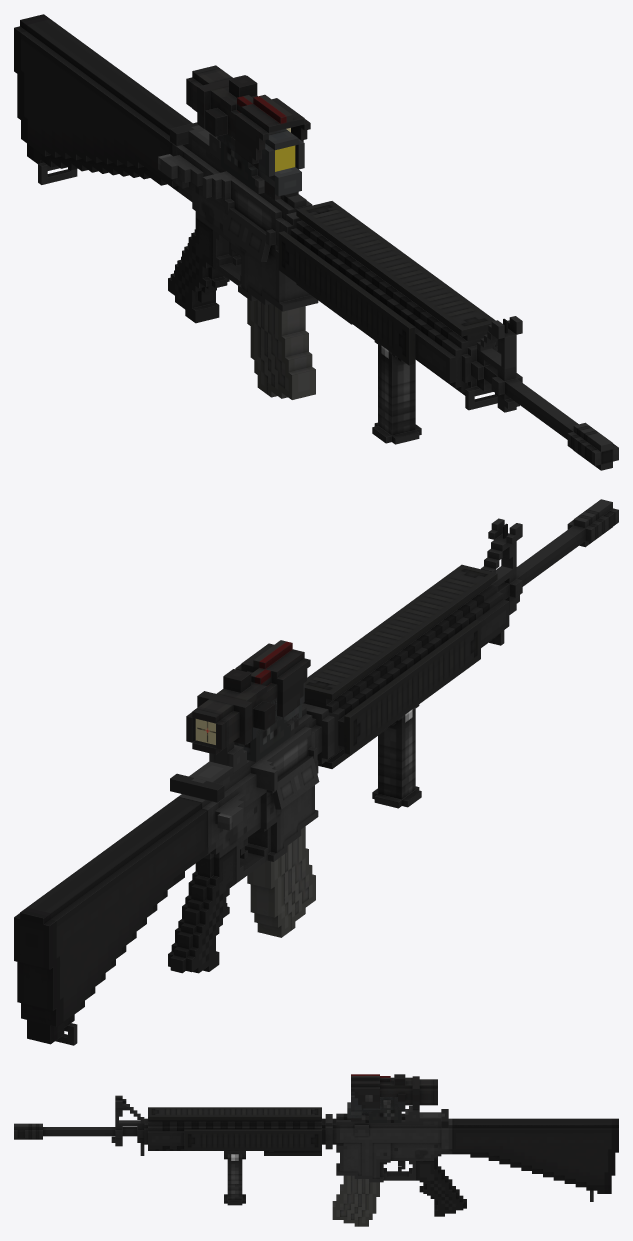
The model's file is RD_M16A4_COLOR_DELUSION.glb.
3 views of the same model, one above another, from view 1: azimuth 30°, elevation 25°; view 2: azimuth 150°, elevation 25°; view 3: azimuth 270°, elevation 25° (orthographic). The views are drawn at different scales.
Visible parts, largest first — view 1: M16A4, SCOPE_ACOG, M16A4_CLIP, GRIP1, SCOPE_TASCO, SCOPE_EOTECH, M16A4_SCOPE; view 2: M16A4, SCOPE_ACOG, M16A4_CLIP, GRIP1, M16A4_SCOPE, SCOPE_EOTECH, M16A4_BOLT; view 3: M16A4, SCOPE_ACOG, M16A4_CLIP, GRIP1, SCOPE_TASCO, SCOPE_EOTECH, M16A4_SCOPE.
Boxes of the visible parts, left/top/right/bottom form: M16A4: left=14, top=14, right=618, bottom=470; SCOPE_ACOG: left=186, top=65, right=310, bottom=200; M16A4_CLIP: left=247, top=298, right=315, bottom=399; GRIP1: left=372, top=341, right=421, bottom=444; SCOPE_TASCO: left=217, top=129, right=304, bottom=193; SCOPE_EOTECH: left=220, top=134, right=301, bottom=196; M16A4_SCOPE: left=209, top=133, right=522, bottom=368; M16A4: left=14, top=499, right=618, bottom=1045; SCOPE_ACOG: left=186, top=640, right=310, bottom=754; M16A4_CLIP: left=247, top=826, right=315, bottom=937; GRIP1: left=372, top=704, right=421, bottom=808; M16A4_SCOPE: left=209, top=518, right=522, bottom=772; SCOPE_EOTECH: left=234, top=704, right=301, bottom=762; M16A4_BOLT: left=170, top=773, right=224, bottom=802; M16A4: left=14, top=1107, right=618, bottom=1216; SCOPE_ACOG: left=351, top=1074, right=437, bottom=1121; M16A4_CLIP: left=332, top=1175, right=379, bottom=1226; GRIP1: left=224, top=1151, right=245, bottom=1205; SCOPE_TASCO: left=351, top=1092, right=405, bottom=1122; SCOPE_EOTECH: left=347, top=1100, right=401, bottom=1122; M16A4_SCOPE: left=115, top=1095, right=419, bottom=1123.
Bounding box in the file's own units: 0.1181 × 0.4429 × 1.64.
8 materials, 8 textured.
